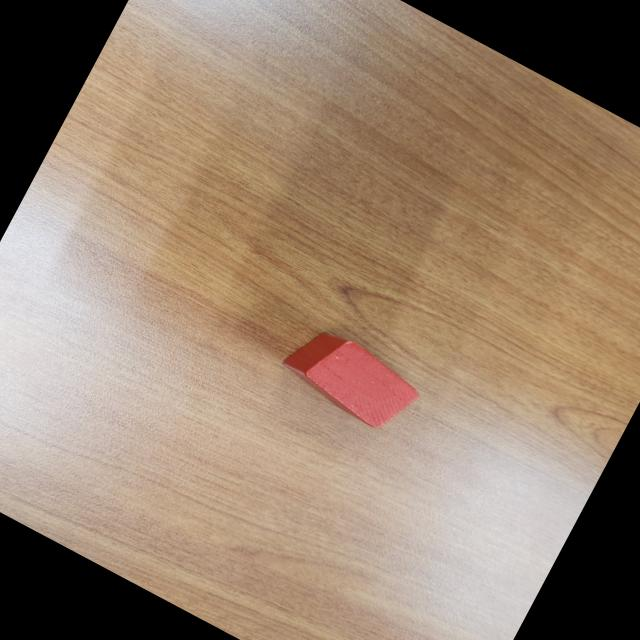red: (272, 314, 427, 440)
